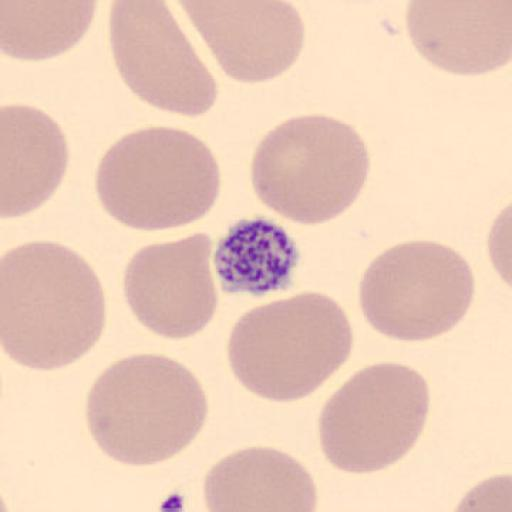Platelet: (208, 214, 304, 297)
RBC: (83, 351, 210, 468), (225, 290, 355, 404), (2, 238, 108, 372), (93, 124, 223, 233), (250, 112, 372, 228), (316, 360, 432, 475), (107, 0, 220, 117), (357, 238, 478, 344), (176, 0, 308, 86), (122, 232, 218, 342), (2, 102, 71, 222), (404, 1, 512, 77), (202, 444, 320, 512), (2, 0, 98, 63), (486, 199, 512, 293), (452, 474, 511, 512)
